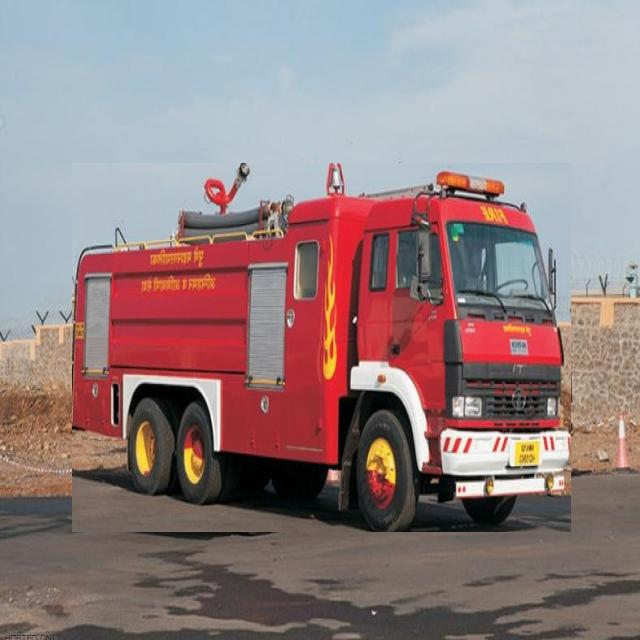emergency: (72, 164, 571, 532)
